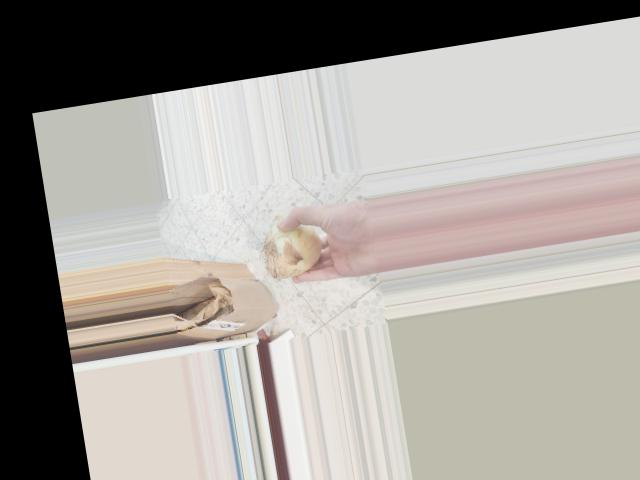onion: (255, 207, 332, 282)
